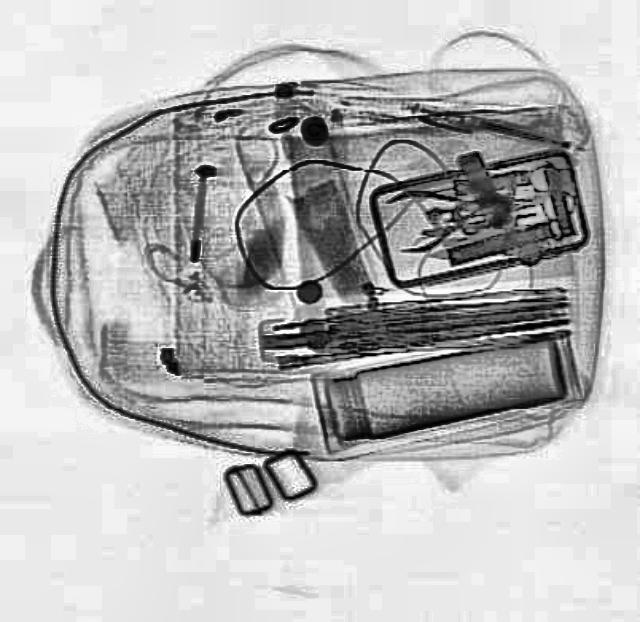Pliers: (380, 167, 512, 254)
Scissors: (487, 156, 579, 236)
